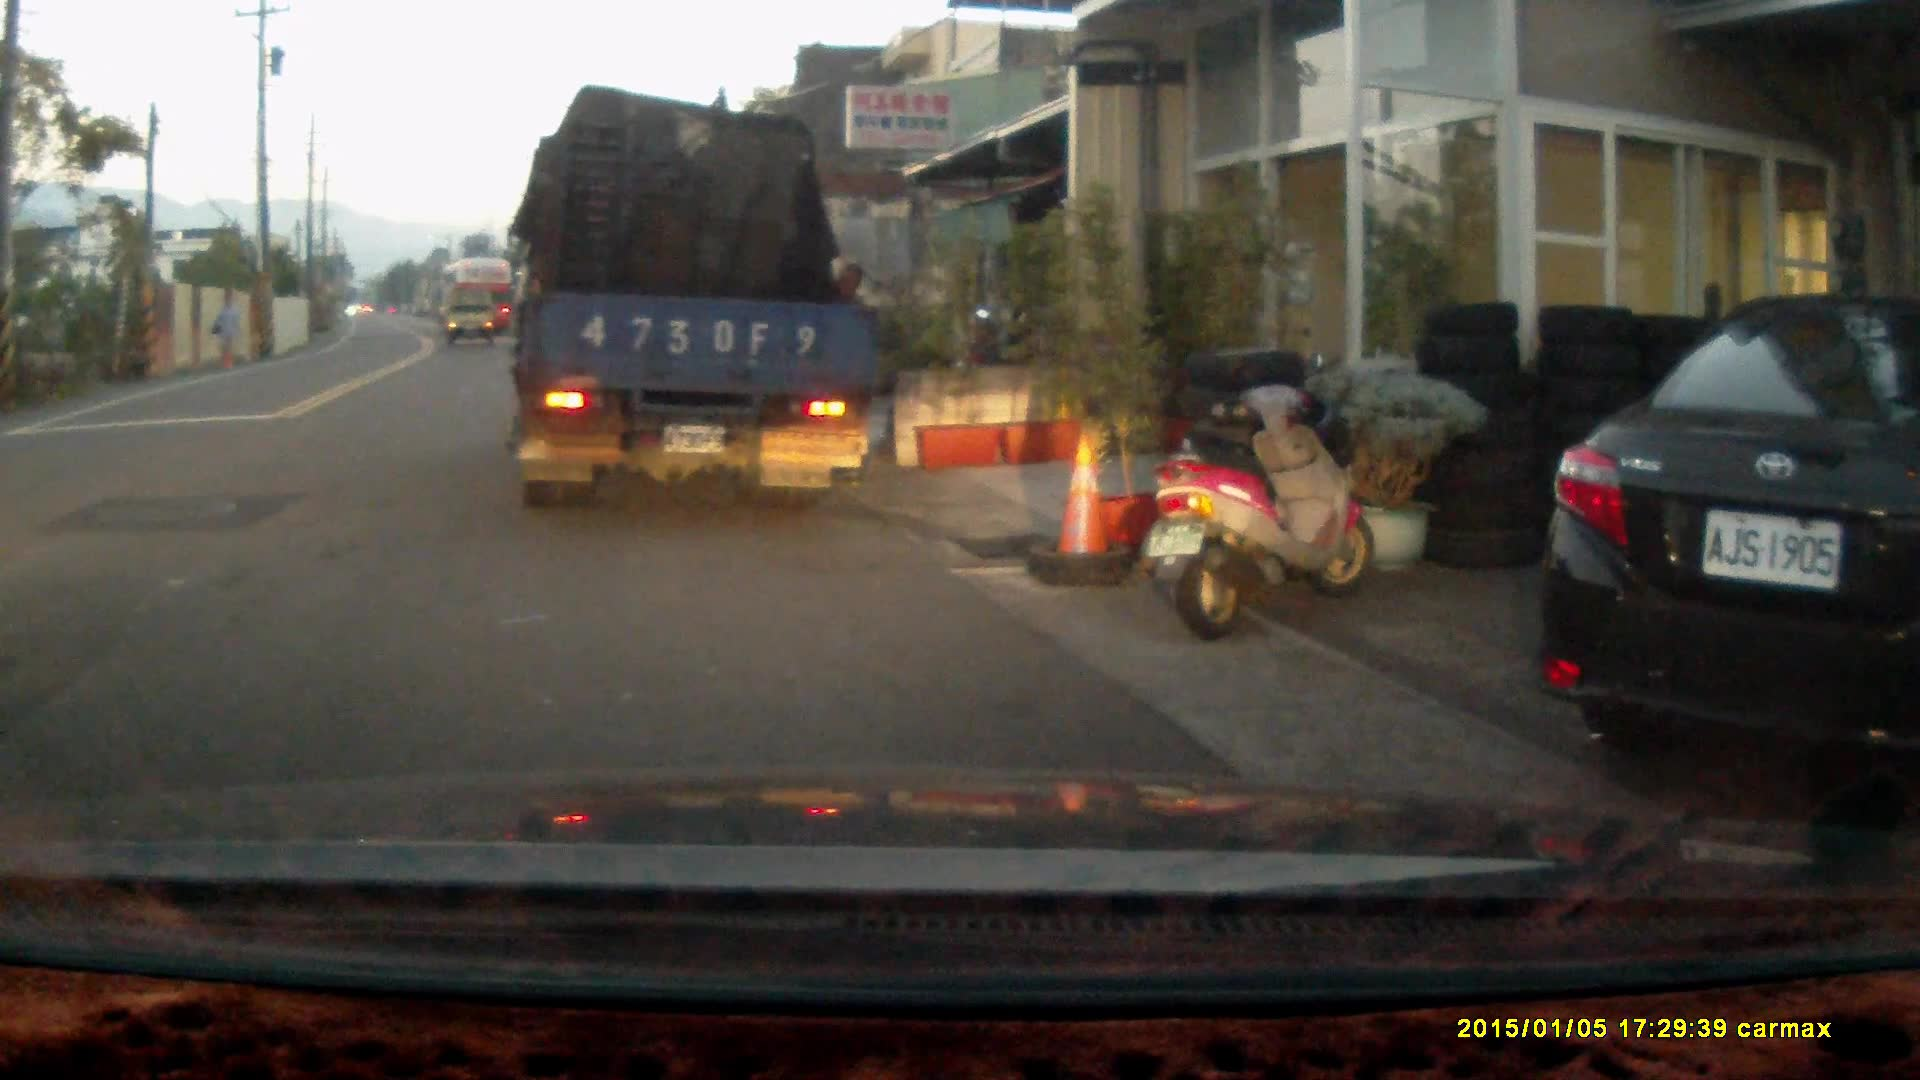pedestrian: (209, 290, 240, 364)
vehicle: (1547, 287, 1919, 773), (497, 94, 871, 505), (440, 254, 522, 337), (445, 289, 497, 349)
